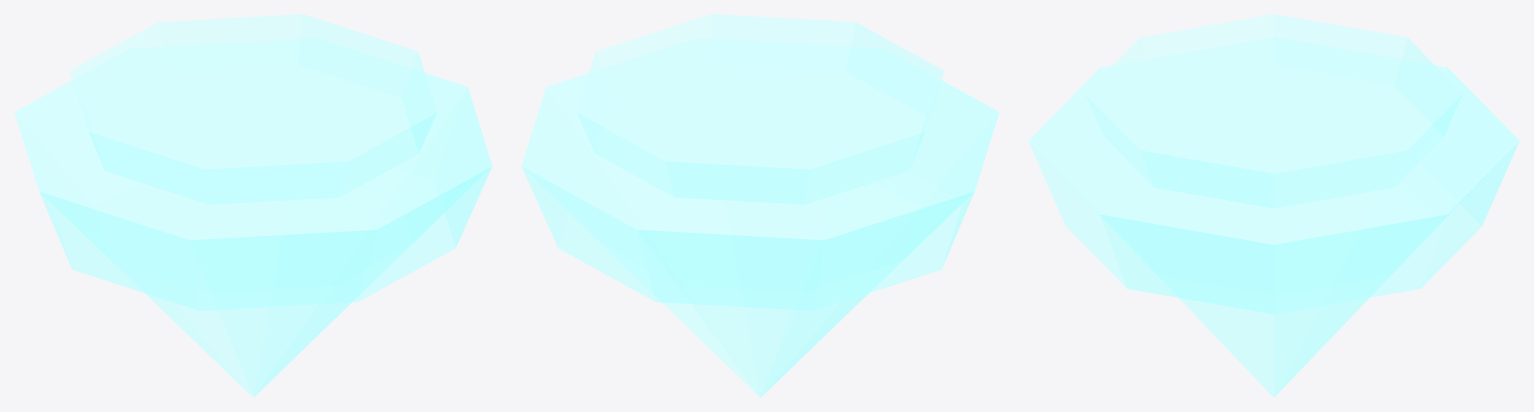
The model's file is GH_Product_Diamond.fbx.
The picture shows the model from 3 angles, left to right: view 1: azimuth 30°, elevation 25°; view 2: azimuth 150°, elevation 25°; view 3: azimuth 270°, elevation 25°; orthographic projection.
Parts seen in each view (by area): view 1: SM_Product_Diamond; view 2: SM_Product_Diamond; view 3: SM_Product_Diamond.
Part boxes in pixels (bbox=[...]): SM_Product_Diamond: bbox=[14, 14, 492, 397]; SM_Product_Diamond: bbox=[521, 14, 999, 397]; SM_Product_Diamond: bbox=[1028, 14, 1519, 397].
Bounding box in the file's own units: 0.52 × 0.355 × 0.52.
